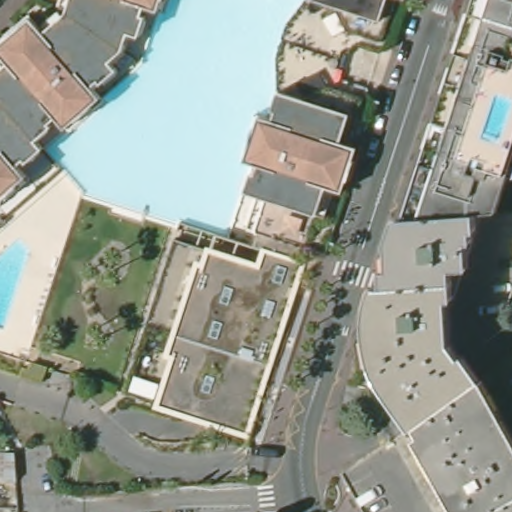pool: (1, 233, 30, 335), (481, 89, 512, 143)
